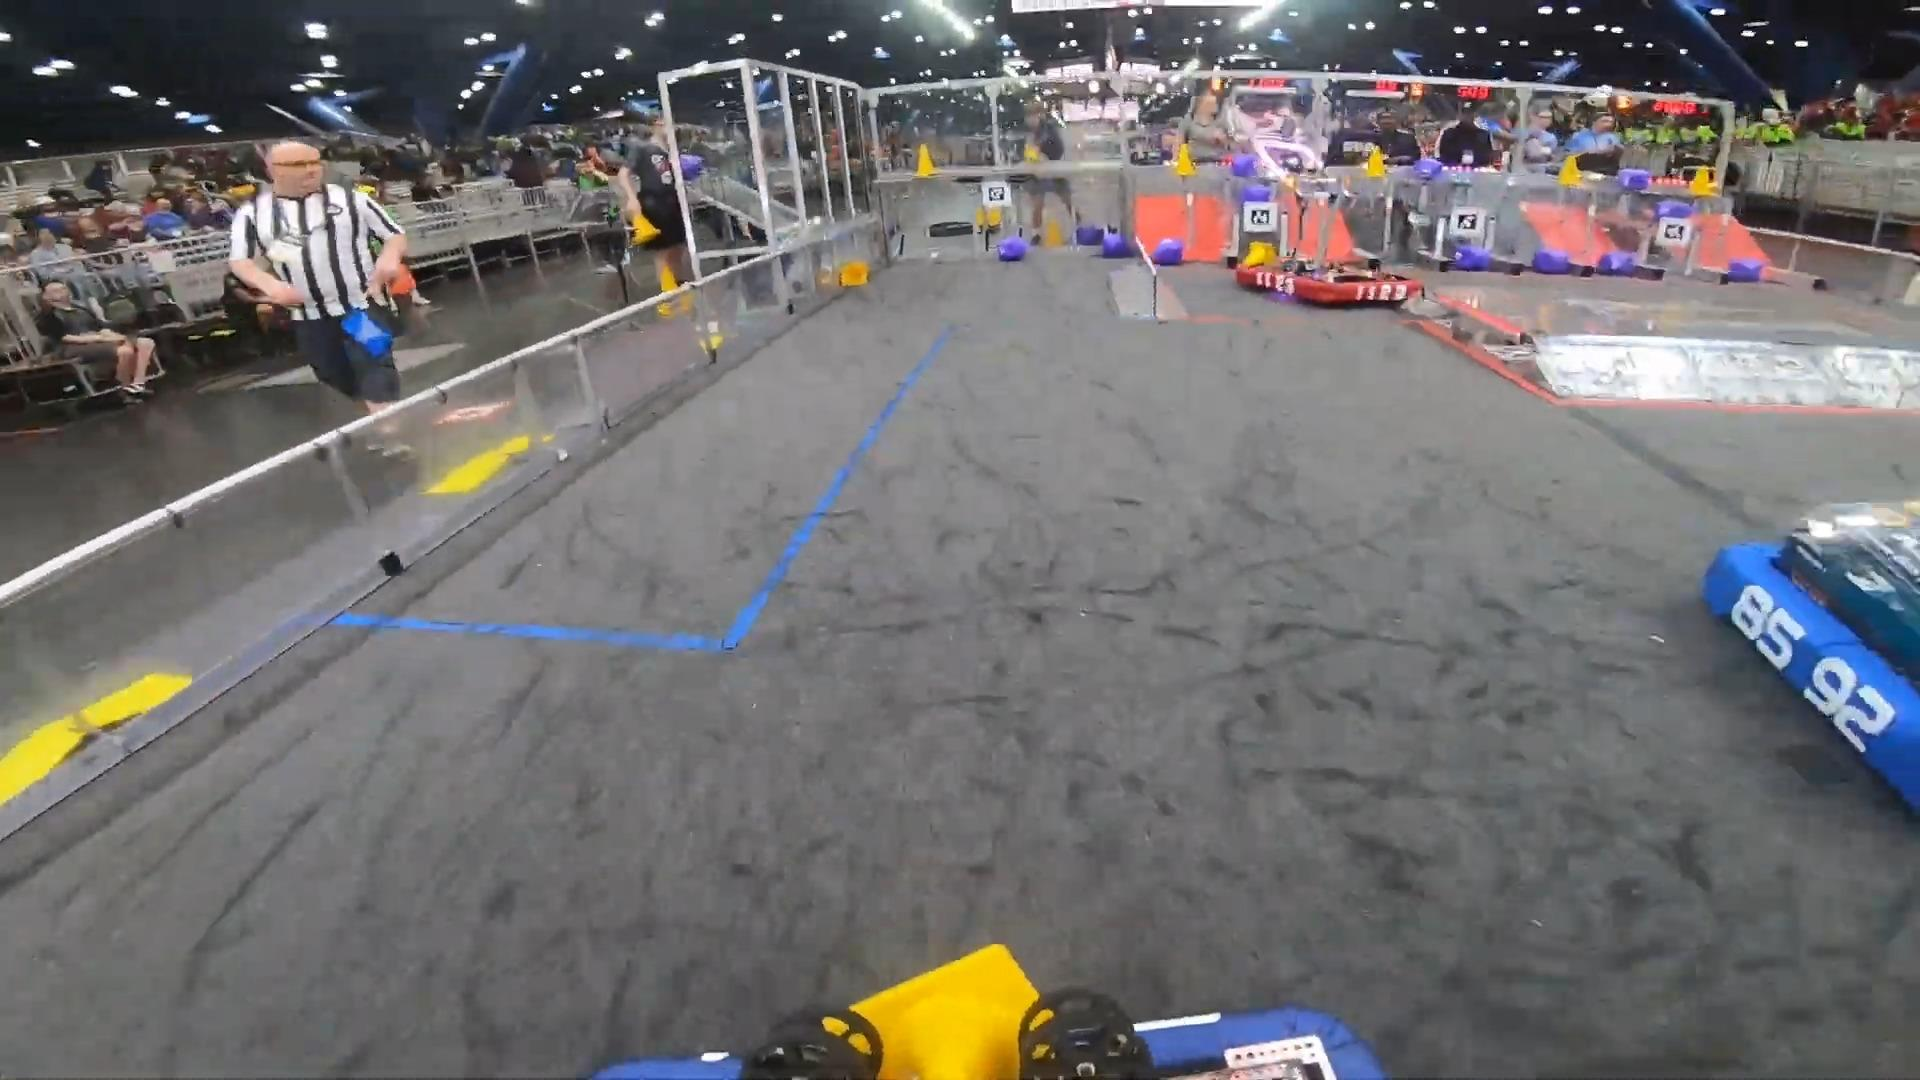robot: (1700, 495, 1920, 827), (1236, 175, 1425, 309)
